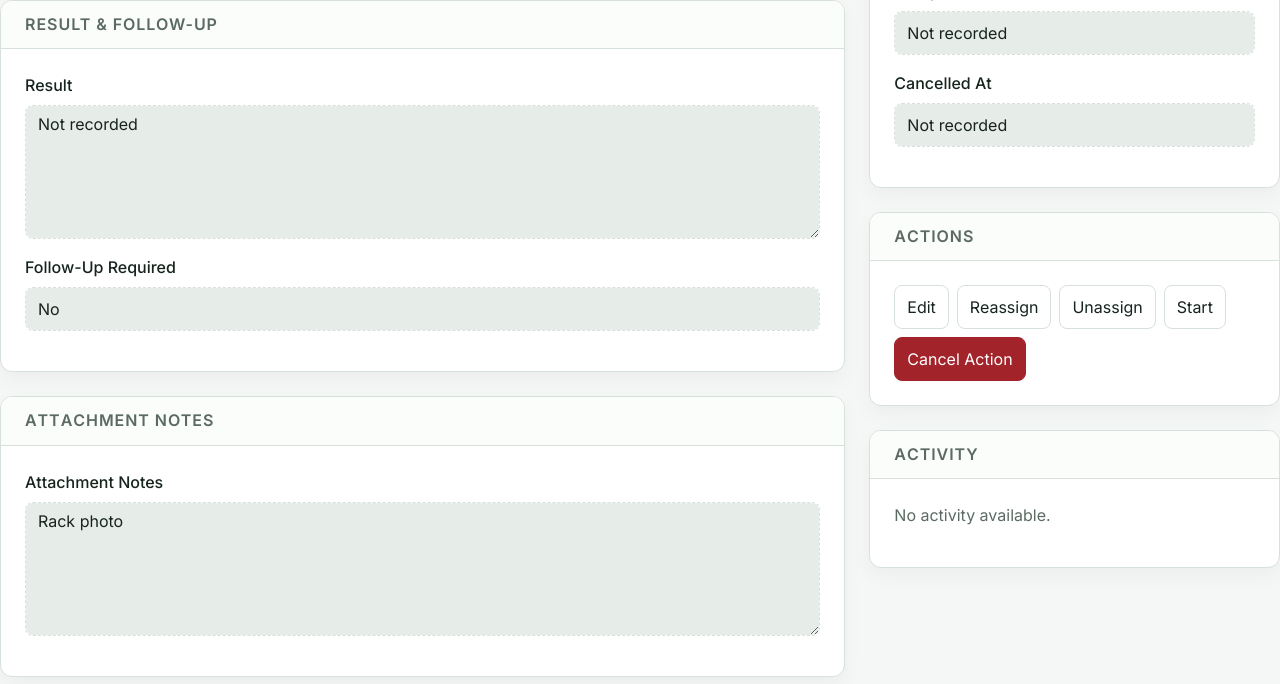
it: Cancel requires reason, preserves associations and hides all terminal mutation controls
(page scrolled)
Step 1. Click the button "Cancel Action" → (960, 359), box [894, 337, 1026, 381]
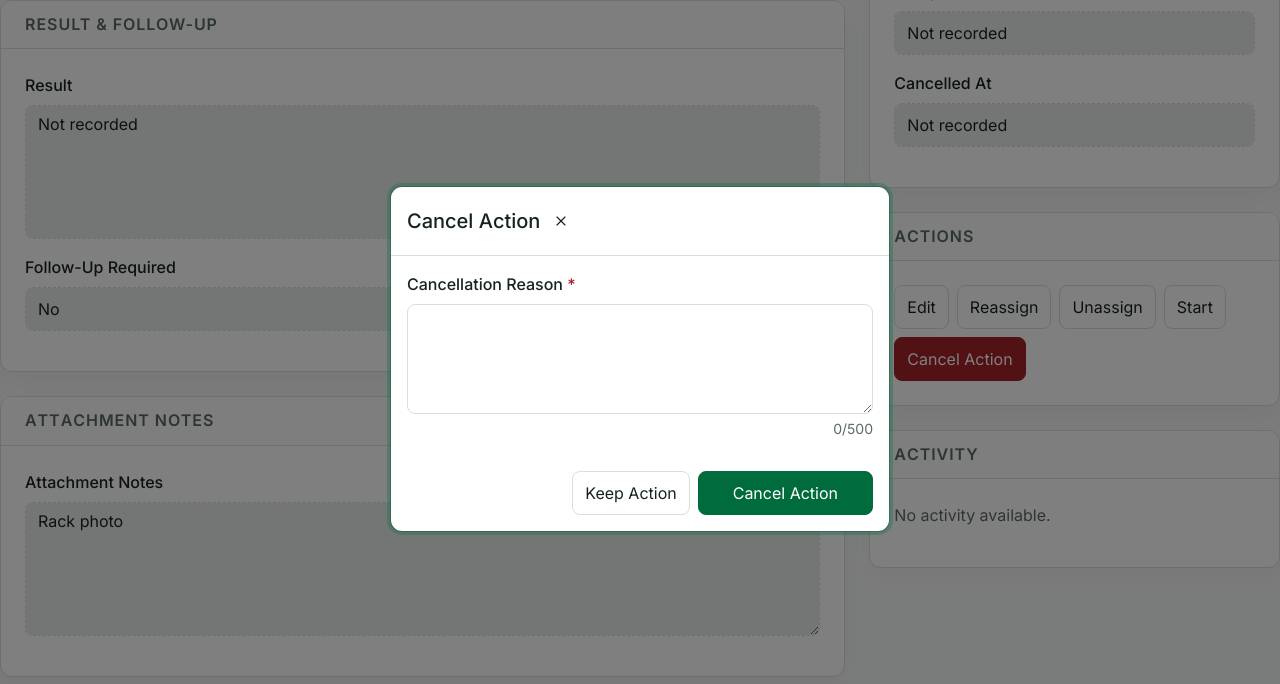
Step 2. Click the button "Cancel Action" → (785, 493), box [698, 471, 873, 515]
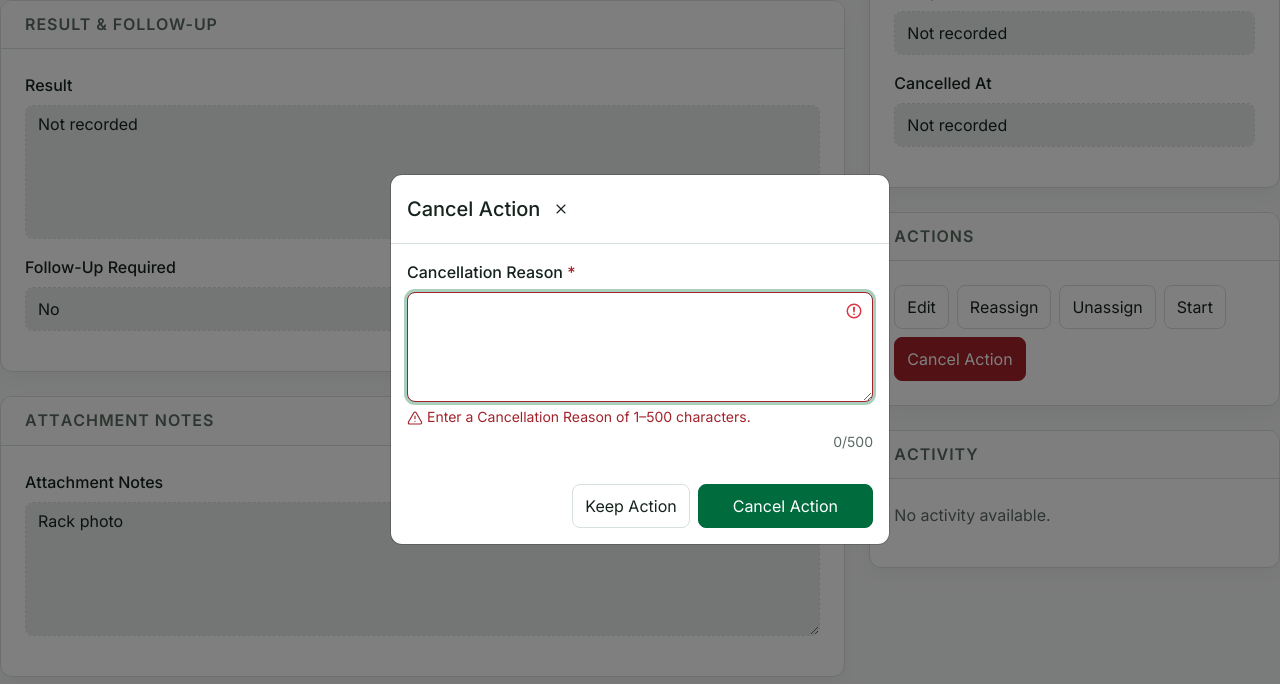
Step 3. Type "Upstream fix" into the text box labelled "Cancellation Reason *" → (640, 346), box [407, 292, 873, 402]
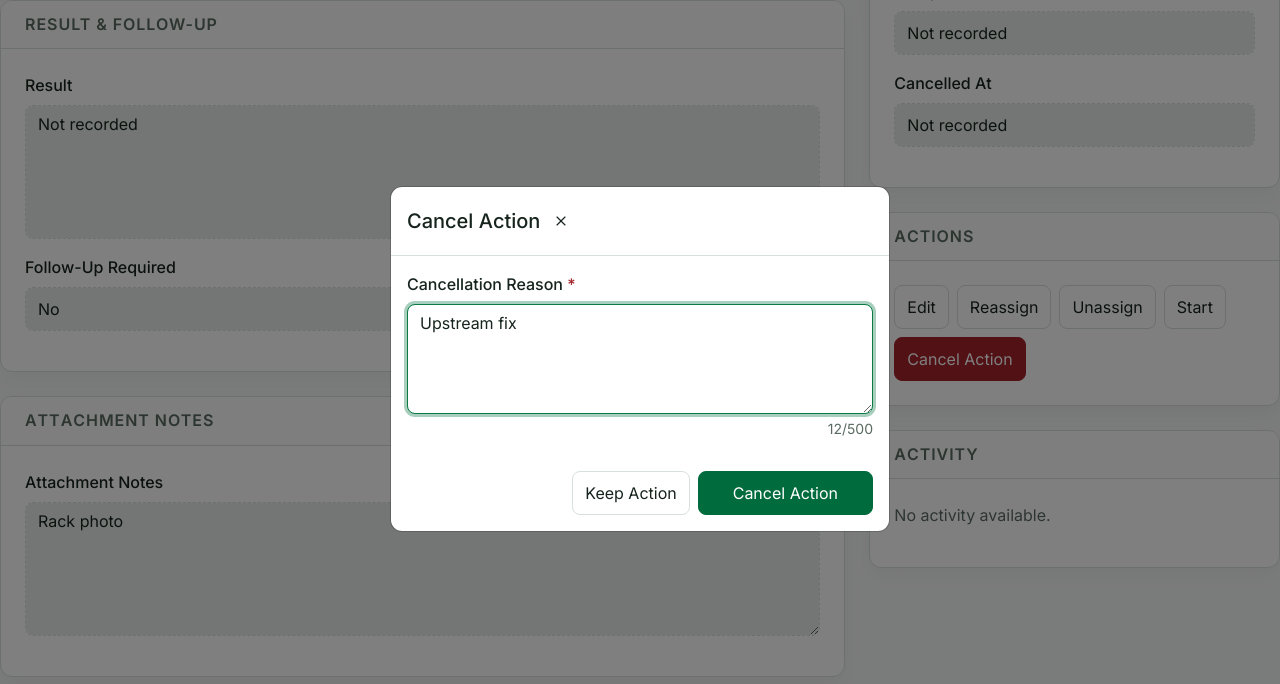
Step 4. Click the button "Cancel Action" → (785, 493), box [698, 471, 873, 515]
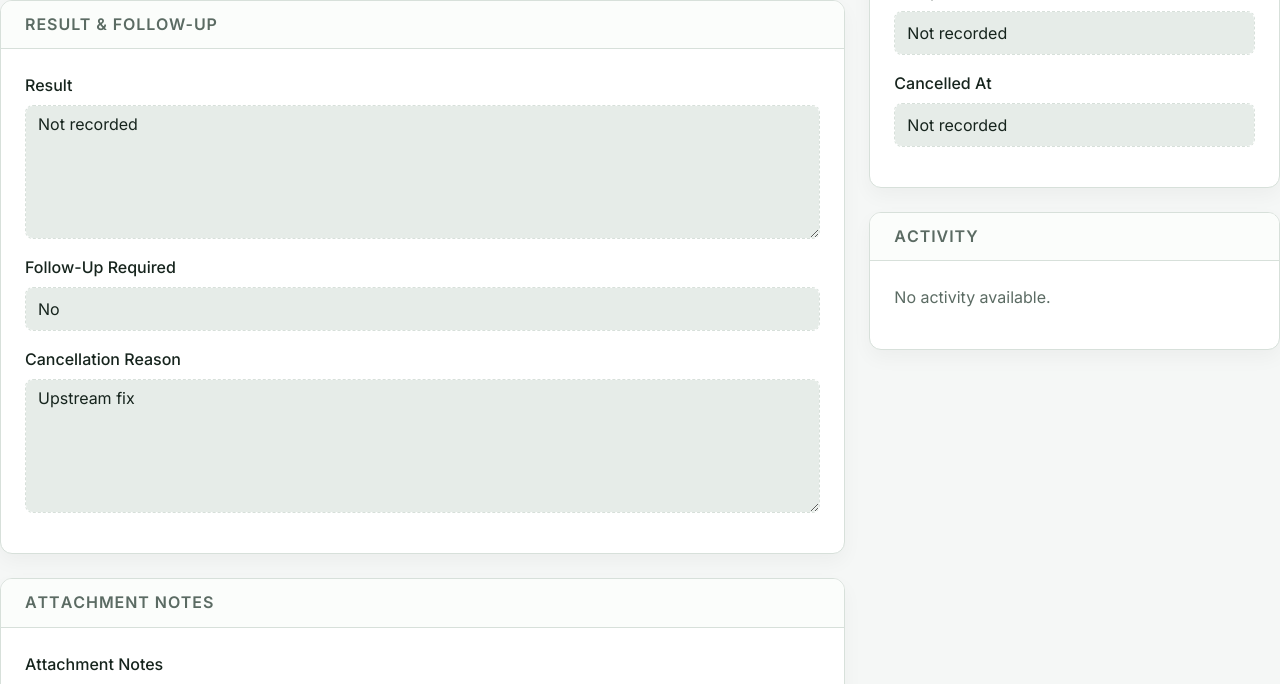
expect the button "Edit" is gone: met
expect the button "Reassign" is gone: met
expect the button "Unassign" is gone: met
